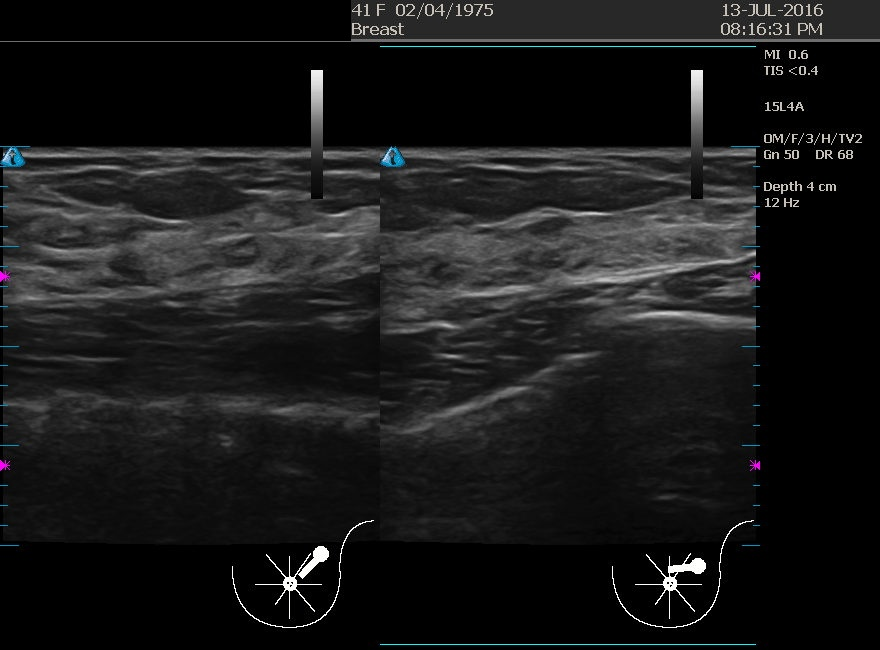BIRADS_3: (105, 153, 305, 354), (448, 152, 648, 353)
